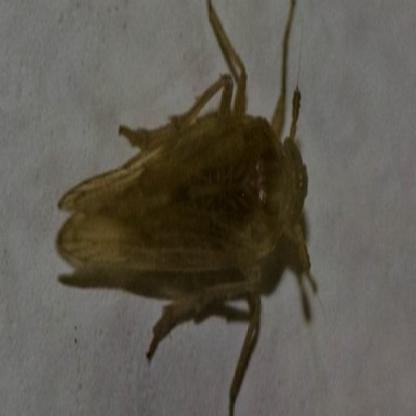brown-planthopper: (57, 102, 318, 306)
